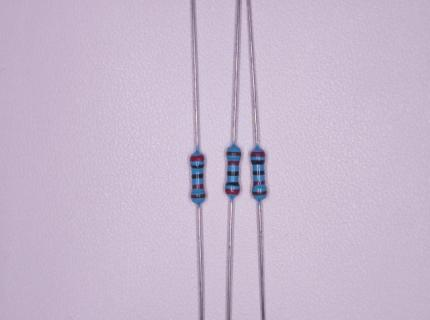Black band: (251, 160, 265, 165), (192, 173, 203, 179), (253, 170, 265, 175), (227, 171, 239, 176), (191, 165, 205, 169), (226, 182, 239, 186)
Brown band: (191, 193, 206, 199), (252, 190, 267, 196), (226, 151, 242, 156)
Red band: (190, 155, 205, 162), (250, 151, 266, 157), (224, 189, 240, 194), (253, 181, 266, 186), (228, 161, 240, 166), (192, 184, 204, 189)
